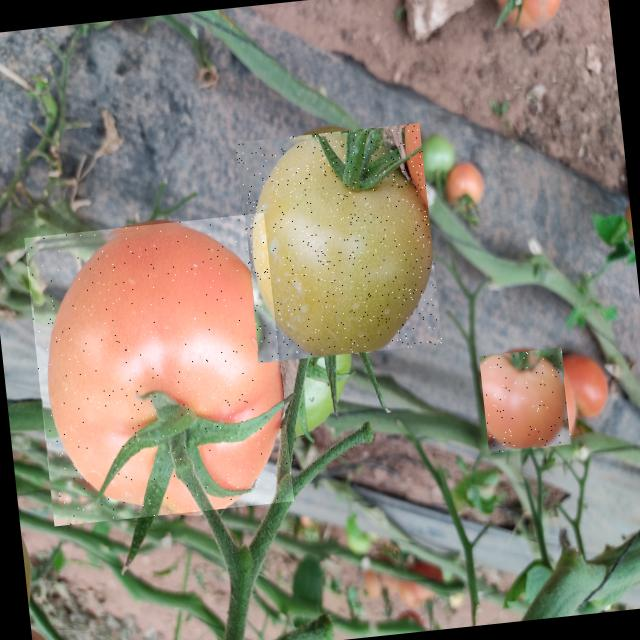Ripe Tomato: (24, 212, 294, 526), (478, 347, 572, 452)
Unripe Tomato: (235, 122, 442, 362)
